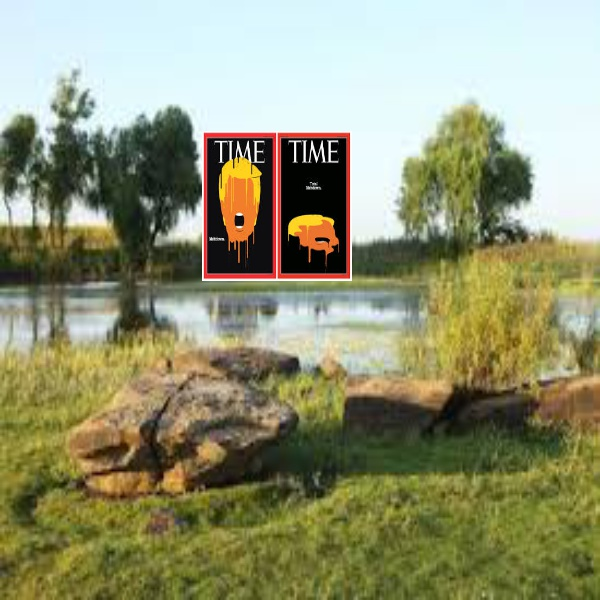time_cover: (200, 130, 273, 283), (288, 126, 356, 285)
